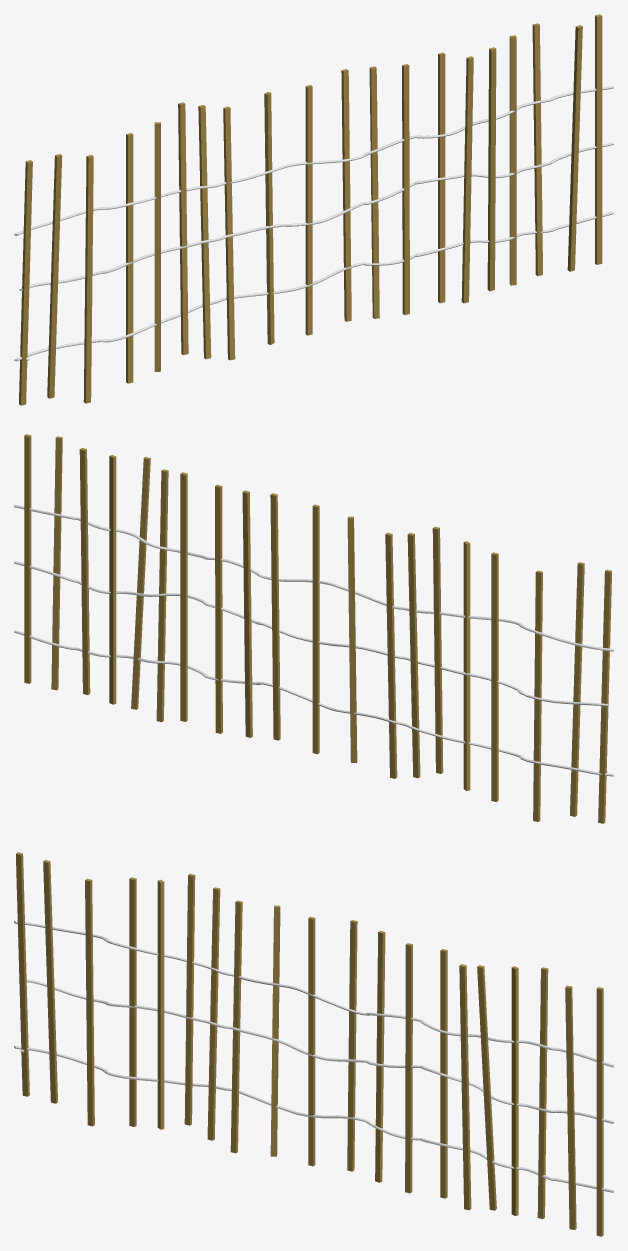
Rendered from fence_low.fbx.
The picture shows the model from 3 angles, top to bottom: view 1: azimuth 30°, elevation 25°; view 2: azimuth 150°, elevation 25°; view 3: azimuth 330°, elevation 25°; orthographic projection.
Parts seen in each view (by area): view 1: fence_low1; view 2: fence_low1; view 3: fence_low1.
Part boxes in pixels (x1,y1,x2,y2): fence_low1: (14,14,613,405); fence_low1: (14,434,613,823); fence_low1: (14,852,613,1236).
Size of the model in its own units: 23.17 by 10.05 by 1.04.
